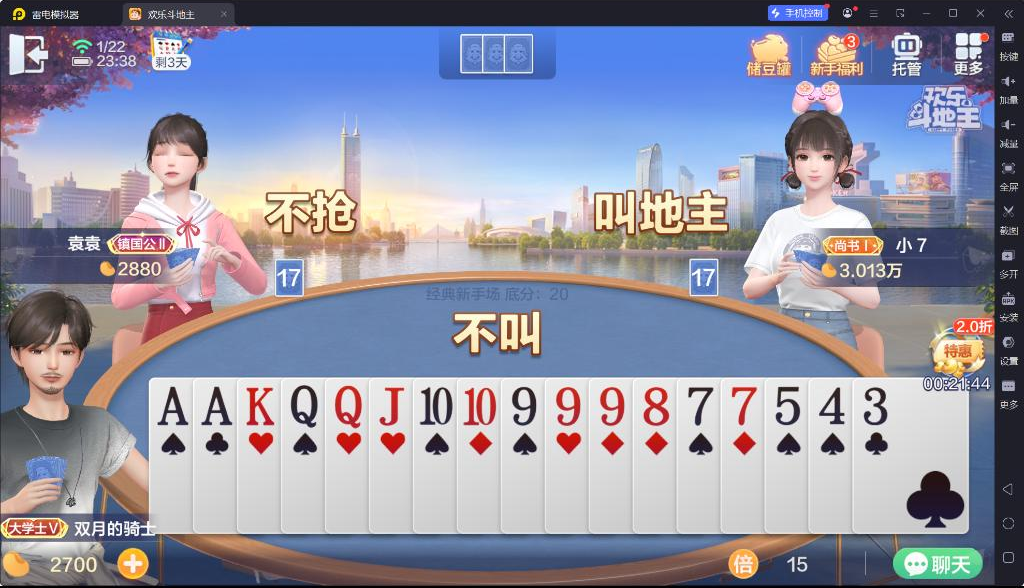A: (199, 383, 235, 429), (154, 383, 190, 429)
J: (375, 384, 407, 427)
K: (243, 382, 276, 428)
Q: (287, 382, 319, 429), (332, 383, 364, 429)
eight: (638, 384, 671, 427)
five: (771, 384, 801, 427)
four: (815, 384, 849, 427)
nine: (507, 384, 539, 427), (551, 384, 583, 427), (596, 384, 627, 427)
seven: (684, 384, 714, 428), (728, 384, 758, 427)
ten: (460, 384, 498, 427), (417, 384, 454, 427)
three: (860, 384, 889, 427)
